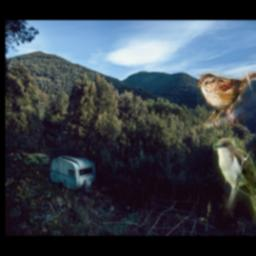Cuckoo: (213, 139, 256, 232)
Sparrow: (197, 72, 256, 128)
